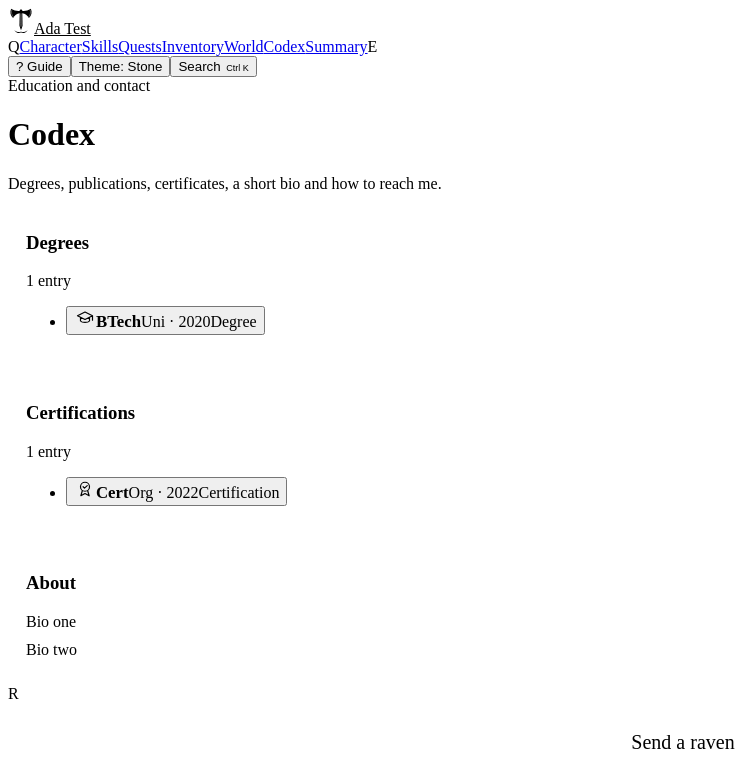
Test: codex › groups education, expands a row, and shows only existing contact methods
Check: the heading "Codex" is shown, box [8, 116, 95, 152]
Check: the element "Degrees" is shown, box [26, 232, 265, 335]
Click the button "BTech" at [165, 321], box [66, 306, 265, 335]
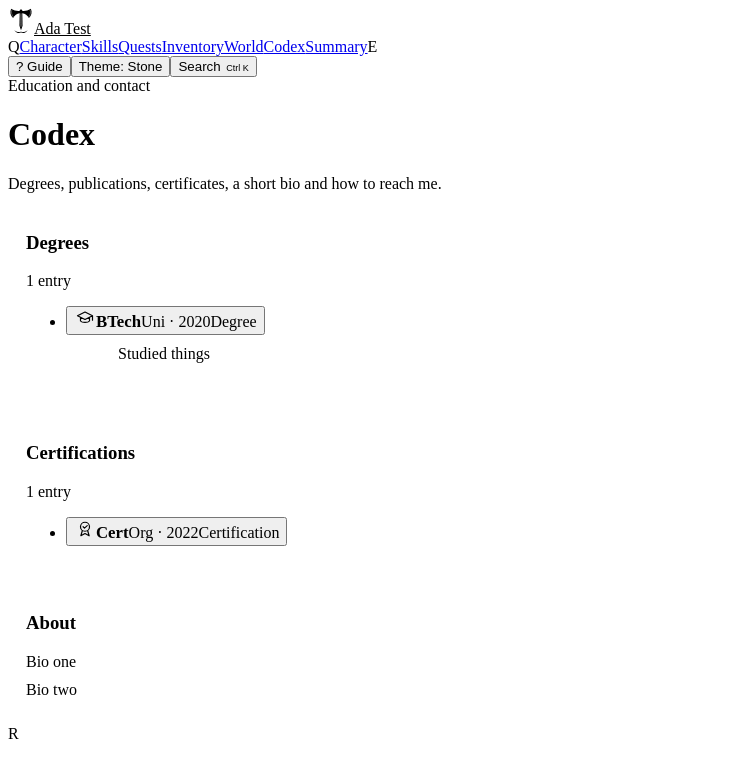
Check: the text "Bio two" is shown, box [26, 681, 77, 698]
Check: the text "Studied things" is shown, box [118, 345, 210, 362]
